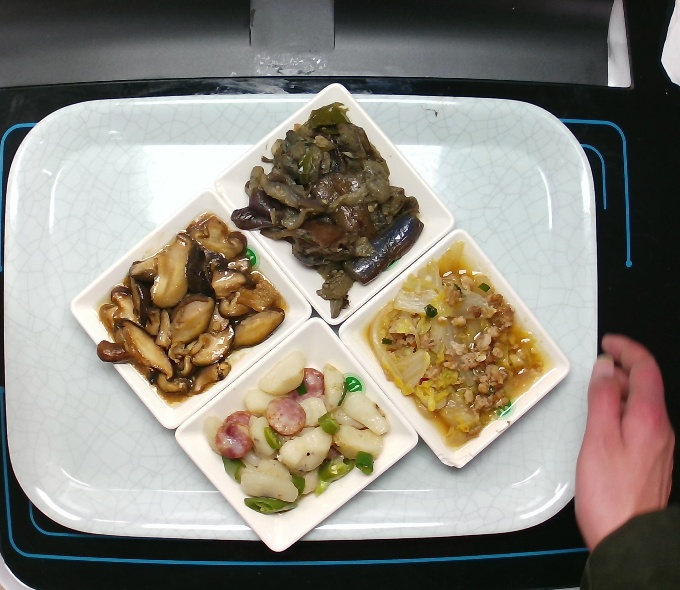wcq-MaTiGuo: (196, 347, 398, 517)
wcq-MoGu: (79, 206, 296, 411)
wcq-QieZi: (224, 96, 429, 324)
wcq-RouMoBaiCai: (354, 238, 558, 453)
